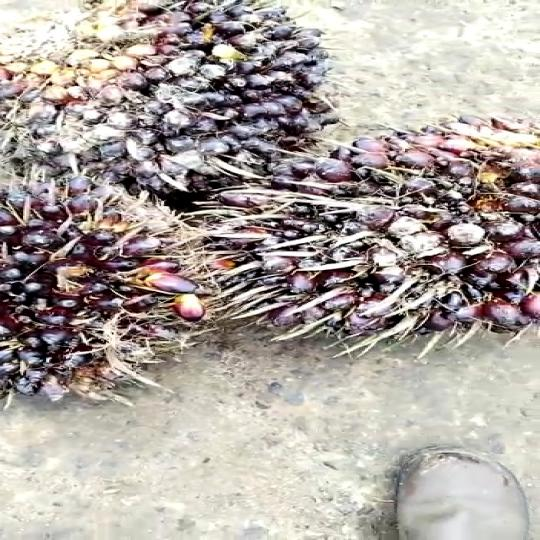kurang masak: (164, 114, 540, 336), (0, 0, 320, 179), (0, 176, 221, 405)
